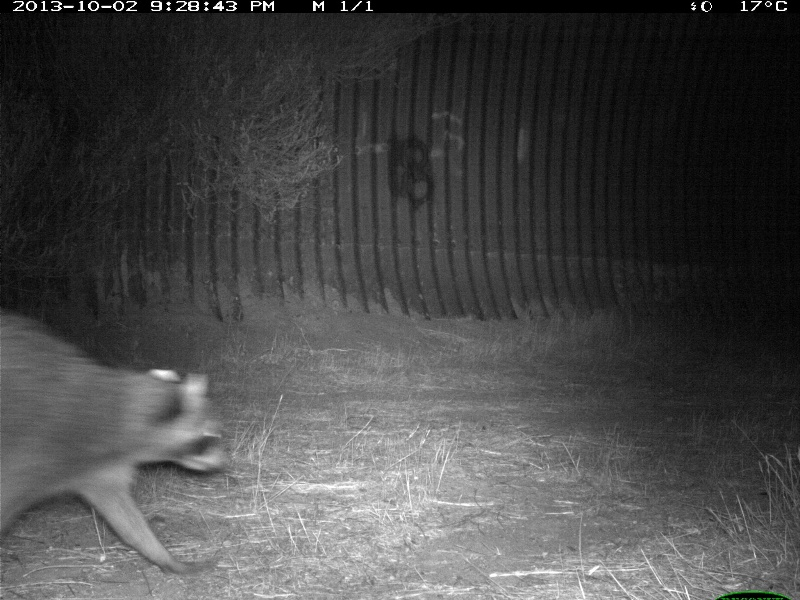raccoon: (1, 307, 240, 576)
